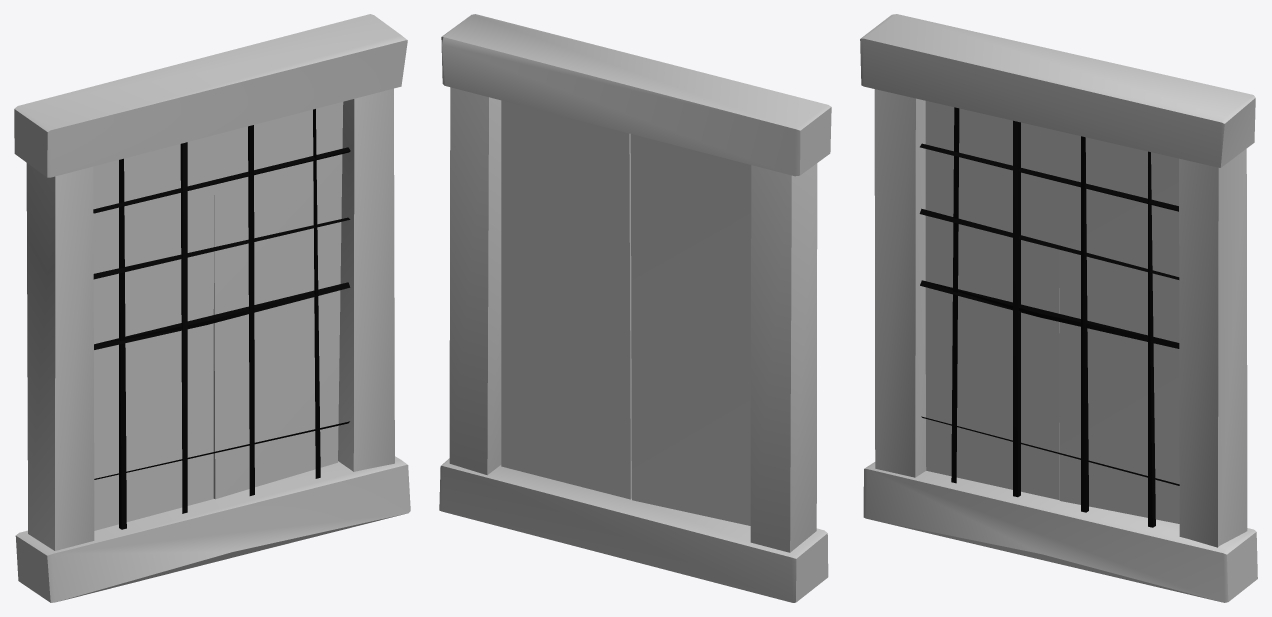
File: SM_Window_02_LOD_02.FBX
The picture shows the model from 3 angles, left to right: view 1: azimuth 30°, elevation 25°; view 2: azimuth 150°, elevation 25°; view 3: azimuth 330°, elevation 25°; orthographic projection.
Parts seen in each view (by area): view 1: SM_Window_02, SM_Window_02_Shutter_Right, SM_Window_02_Shutter_Left; view 2: SM_Window_02, SM_Window_02_Shutter_Right, SM_Window_02_Shutter_Left; view 3: SM_Window_02, SM_Window_02_Shutter_Left, SM_Window_02_Shutter_Right.
Boxes of the visible parts, <box> form: SM_Window_02: <box>14,14,410,602</box>; SM_Window_02_Shutter_Right: <box>213,102,343,499</box>; SM_Window_02_Shutter_Left: <box>93,135,213,530</box>; SM_Window_02: <box>439,14,831,602</box>; SM_Window_02_Shutter_Right: <box>501,100,631,499</box>; SM_Window_02_Shutter_Left: <box>630,134,751,525</box>; SM_Window_02: <box>860,14,1257,602</box>; SM_Window_02_Shutter_Left: <box>925,101,1059,499</box>; SM_Window_02_Shutter_Right: <box>1058,131,1179,523</box>.
Size of the model in its own units: 1.06 by 1.33 by 0.1884.
